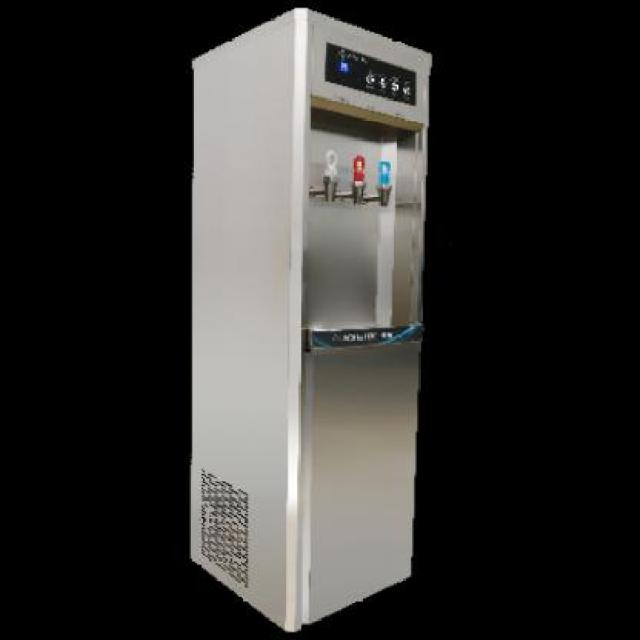cooler: (182, 6, 436, 635)
